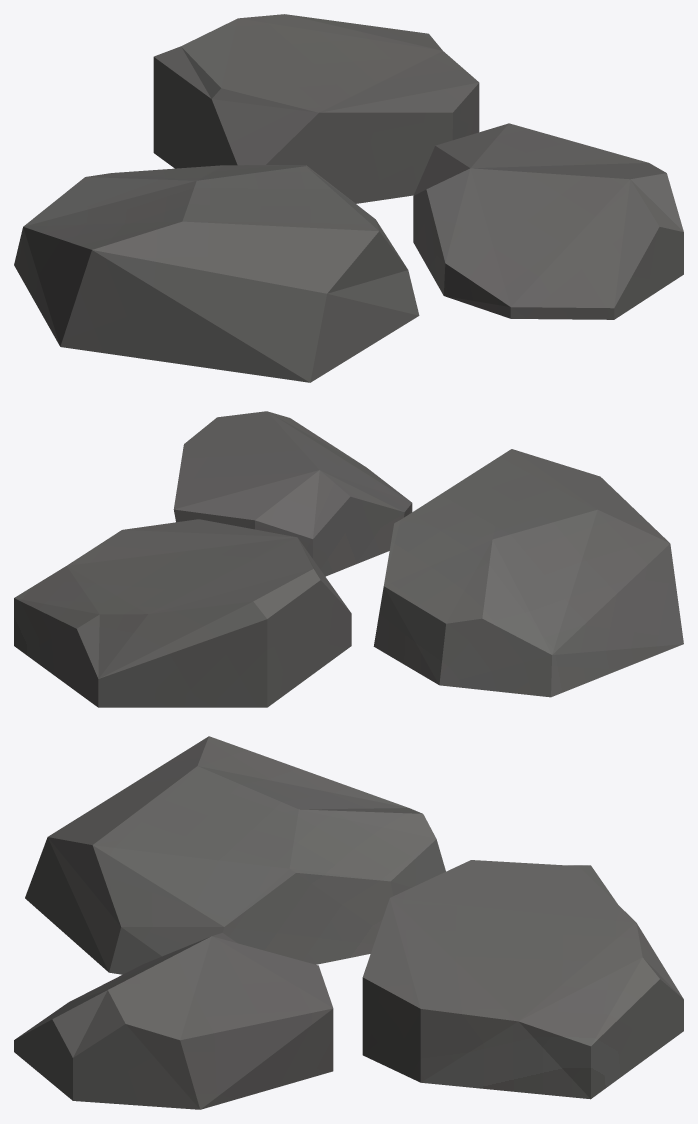
File: Rock_Pile_03.fbx
3 views of the same model, one above another, from view 1: azimuth 30°, elevation 25°; view 2: azimuth 150°, elevation 25°; view 3: azimuth 270°, elevation 25° (orthographic). The views are drawn at different scales.
Parts seen in each view (by area): view 1: SM_RockPile_03.mo; view 2: SM_RockPile_03.mo; view 3: SM_RockPile_03.mo.
Boxes of the visible parts, left/top/right/bottom form: SM_RockPile_03.mo: left=14, top=14, right=683, bottom=382; SM_RockPile_03.mo: left=14, top=411, right=683, bottom=707; SM_RockPile_03.mo: left=14, top=736, right=683, bottom=1109.
Bounding box in the file's own units: 96.18 × 18.73 × 97.19.
